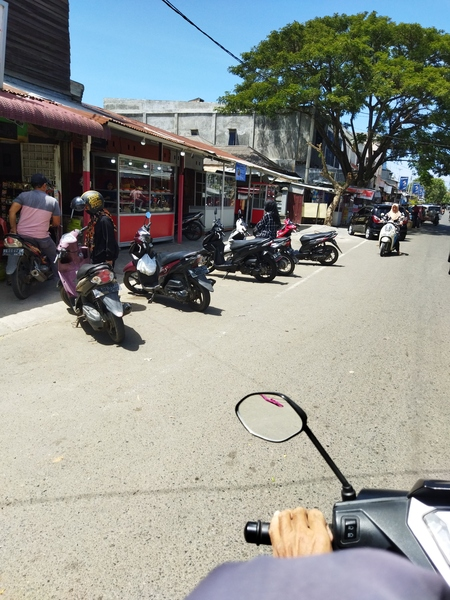motorcycle: (53, 226, 130, 352), (122, 219, 217, 321), (195, 217, 280, 282), (1, 228, 53, 304), (377, 218, 404, 261)
person: (85, 197, 123, 299)
